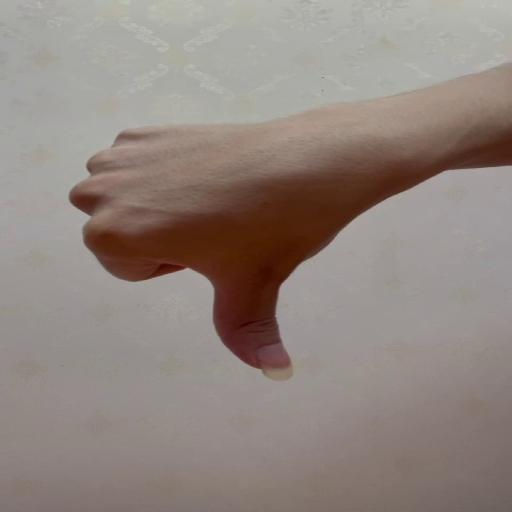thumbs_down: (69, 119, 384, 383)
